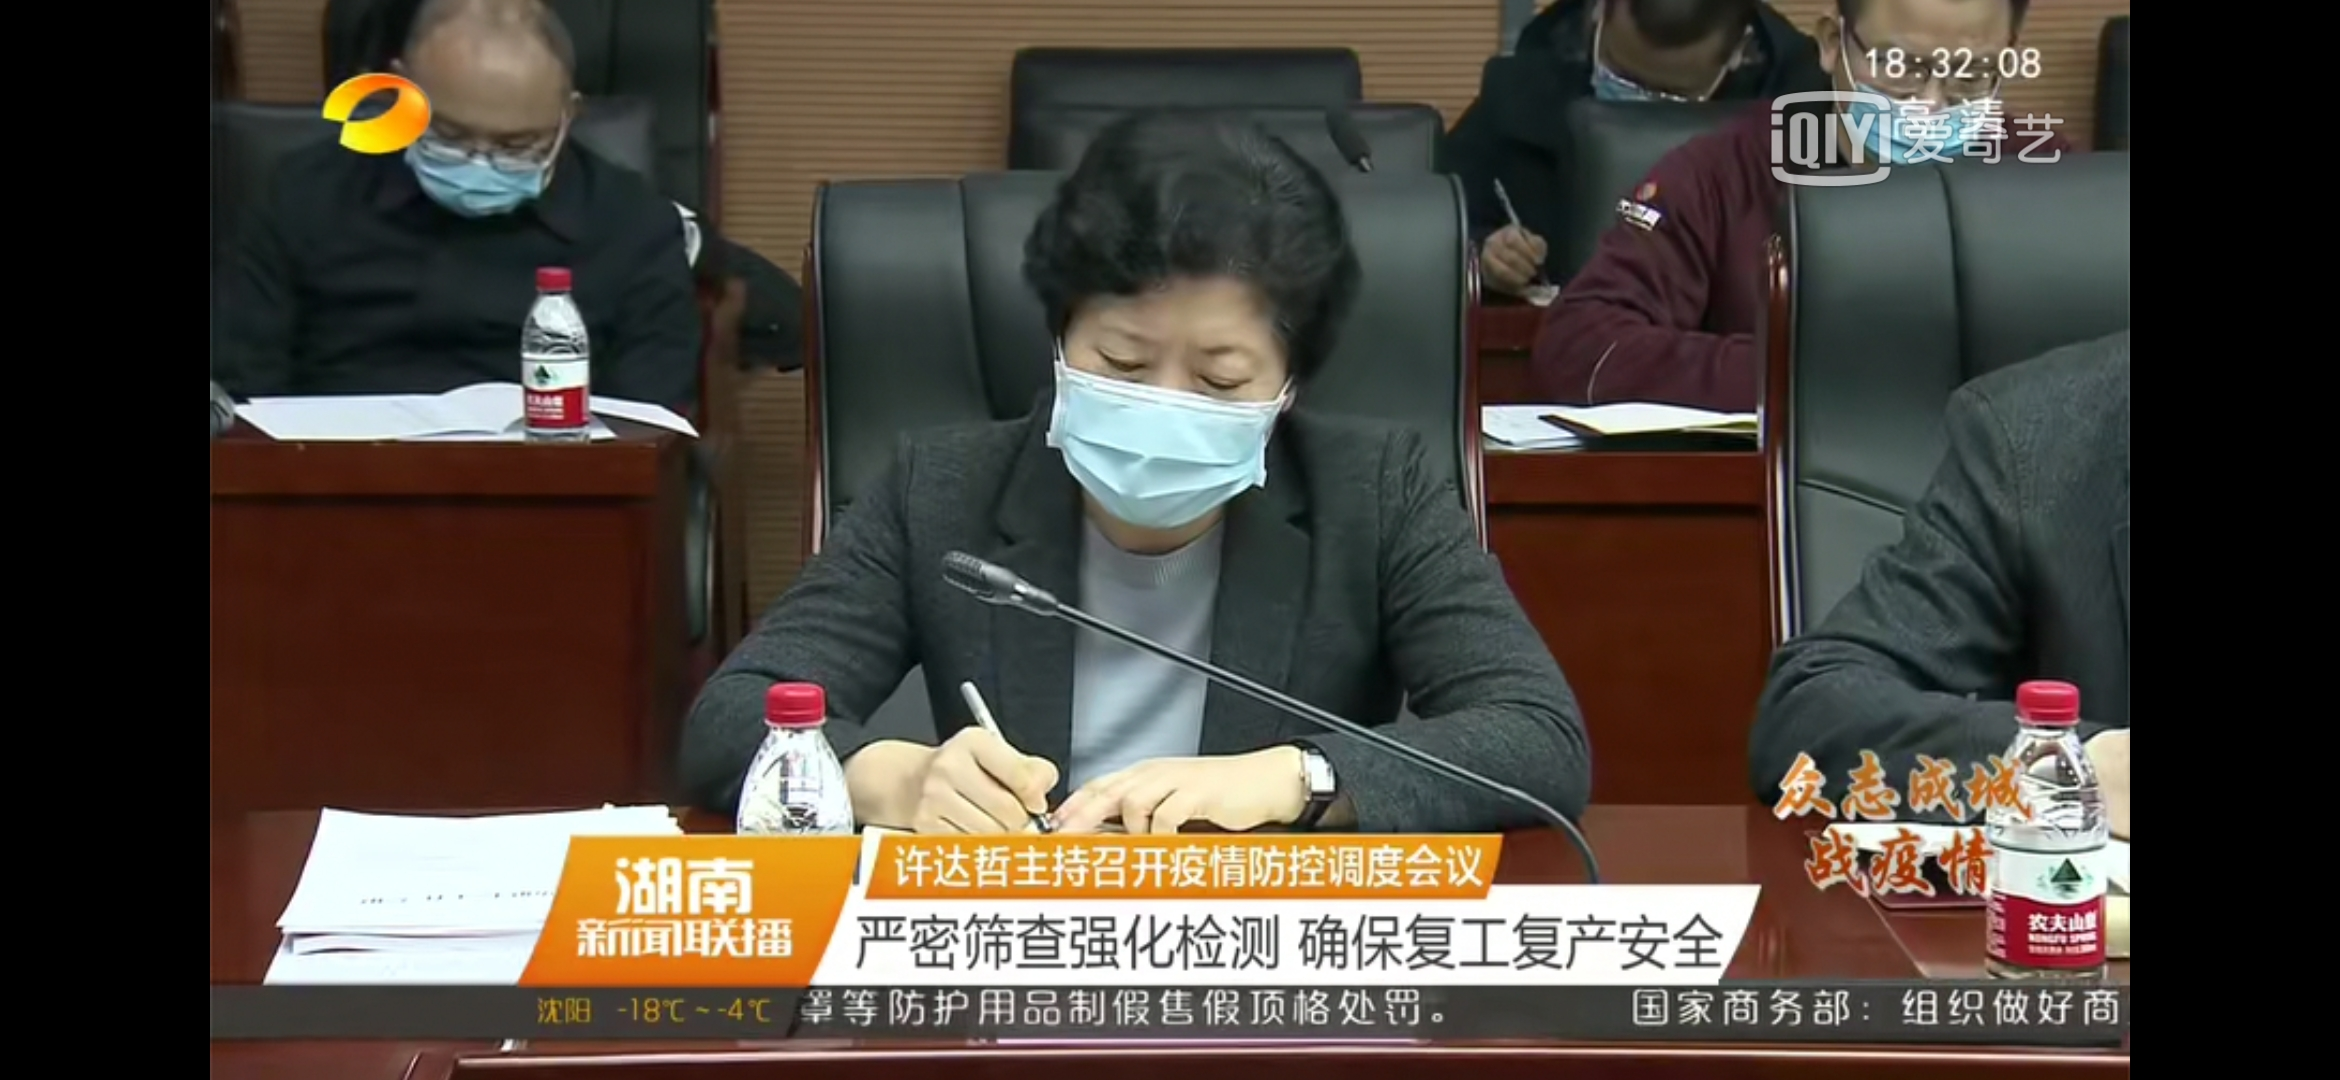correctlyWear: (1040, 303, 1295, 555), (1816, 3, 2019, 167), (401, 104, 592, 227)
